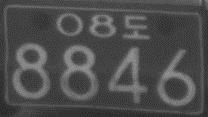0: (55, 11, 84, 37)
4: (107, 46, 148, 105)
6: (156, 47, 196, 107)
8: (57, 44, 100, 102), (10, 41, 51, 100), (89, 13, 117, 39)
도: (121, 14, 151, 40)
